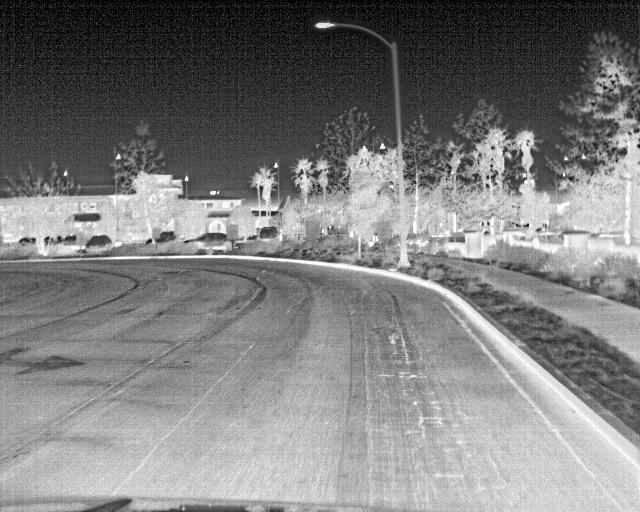car: (186, 232, 233, 253), (82, 235, 113, 256), (259, 226, 282, 244)
